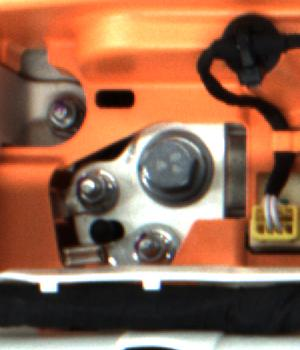screw_s: (42, 94, 85, 142), (77, 164, 120, 207), (136, 229, 170, 254)
